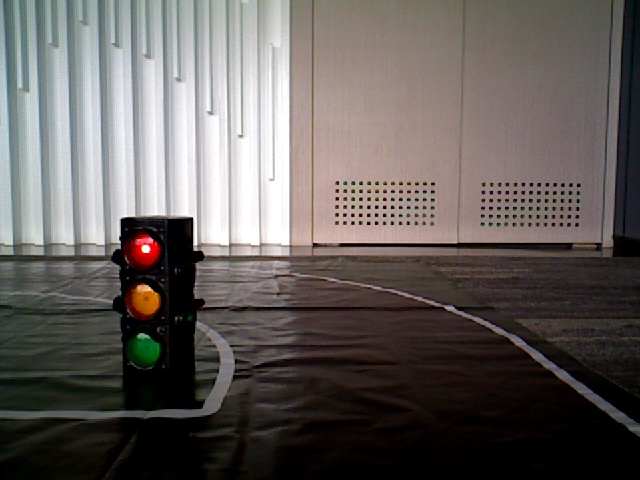red: (126, 225, 172, 367)
